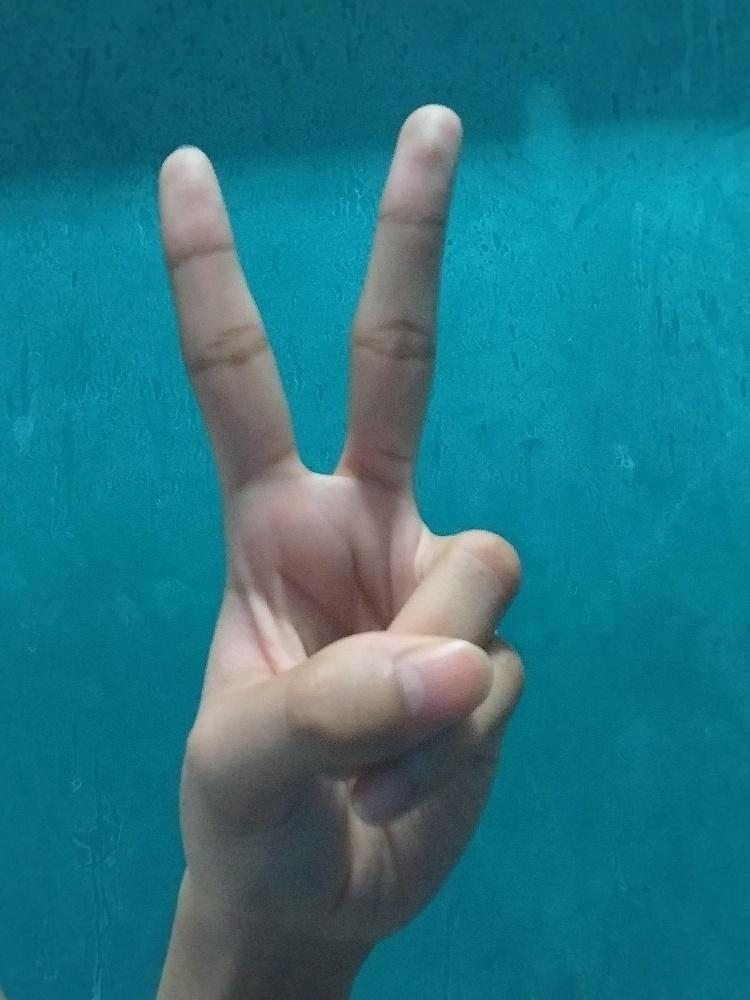v: (152, 100, 531, 952)
